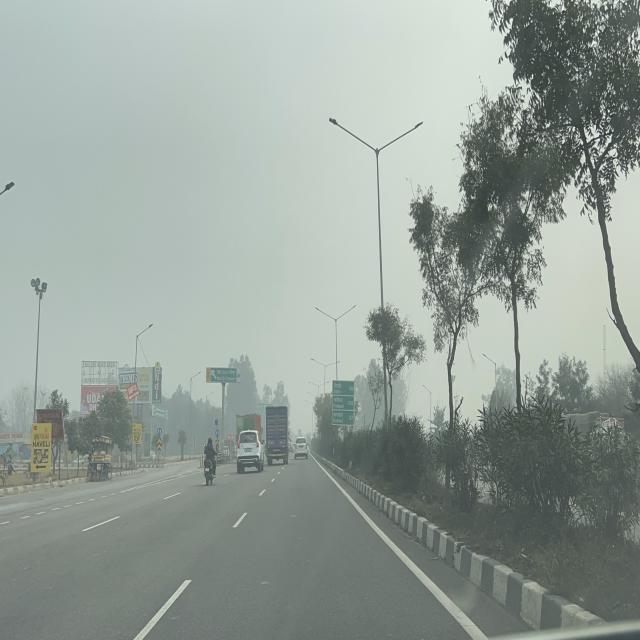GENERAL: (332, 380, 354, 426), (206, 367, 237, 383)
KEEP_EITHER_SIDE: (215, 429, 220, 438), (157, 428, 162, 436)
